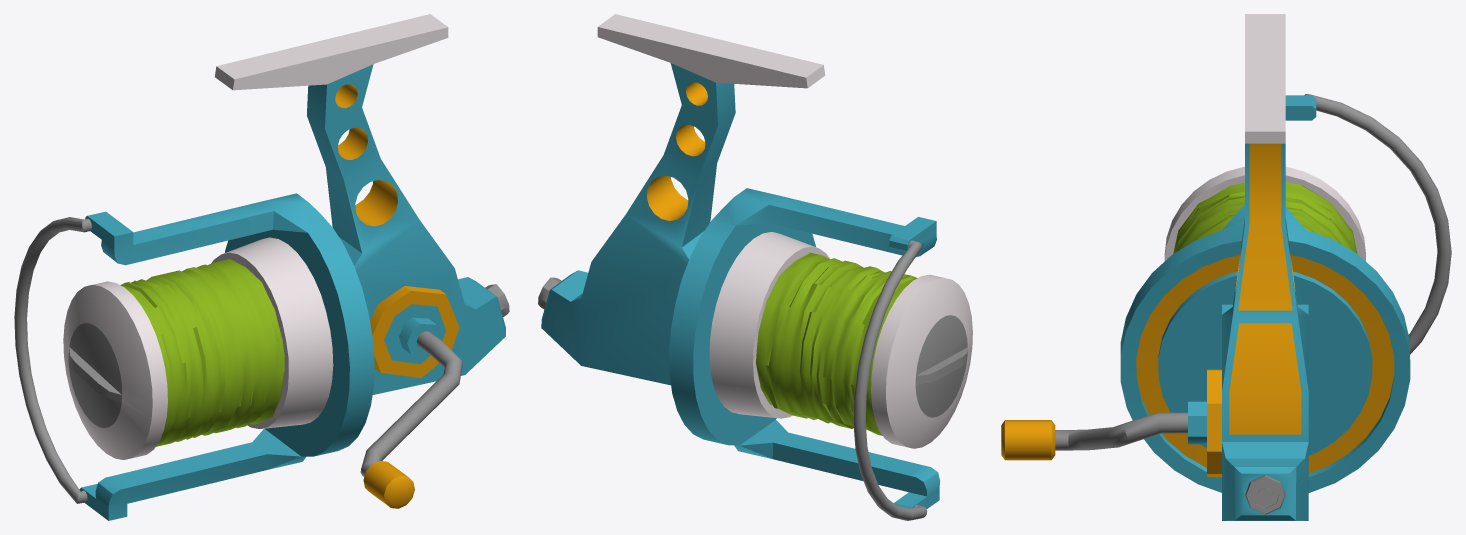
Rendered from kolowrotek tier 4.fbx.
The picture shows the model from 3 angles, left to right: view 1: azimuth 30°, elevation 25°; view 2: azimuth 150°, elevation 25°; view 3: azimuth 270°, elevation 25°; orthographic projection. The views are drawn at different scales.
Visible parts, largest first — view 1: Cube.013, Cube.014, Cube.010, Cube.015; view 2: Cube.013, Cube.014, Cube.010; view 3: Cube.014, Cube.013, Cube.015, Cube.010.
Part boxes in pixels (x1,y1,x2,y2): Cube.013: (63,14,509,459); Cube.014: (14,193,374,520); Cube.010: (120,259,284,446); Cube.015: (360,331,462,508); Cube.013: (538,14,972,448); Cube.014: (669,188,940,520); Cube.010: (756,252,917,435); Cube.014: (1120,94,1451,492); Cube.013: (1164,14,1365,520); Cube.015: (1001,412,1187,460); Cube.010: (1173,182,1357,253).
Size of the model in its own units: 2505 by 2374 by 2073.
